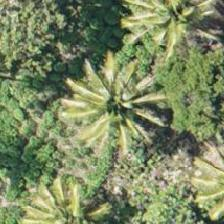coconut_tree: (67, 65, 157, 155), (134, 0, 223, 80), (24, 176, 114, 223)
